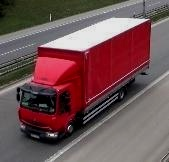truck: (15, 16, 150, 143)
